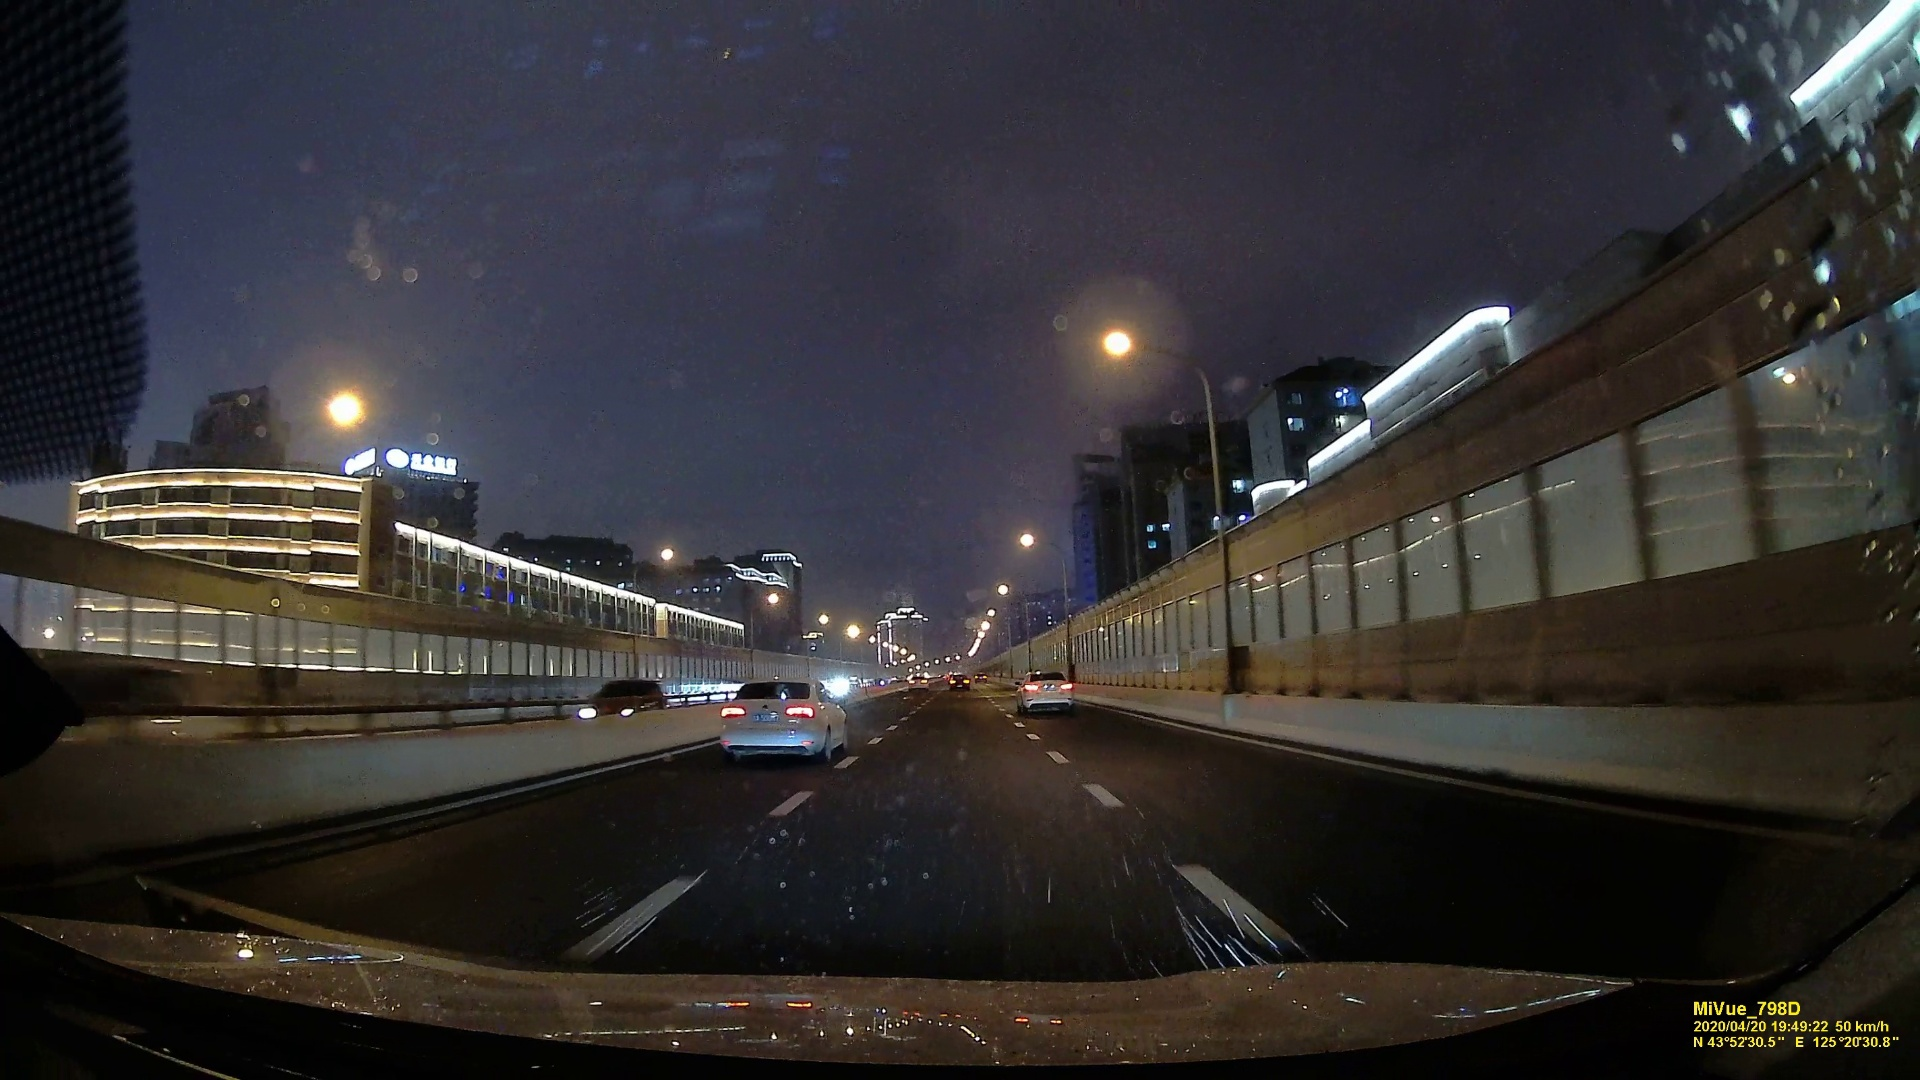vehicle: (716, 675, 849, 764), (574, 676, 670, 720), (1015, 669, 1077, 716), (947, 671, 972, 690), (909, 674, 930, 692)
